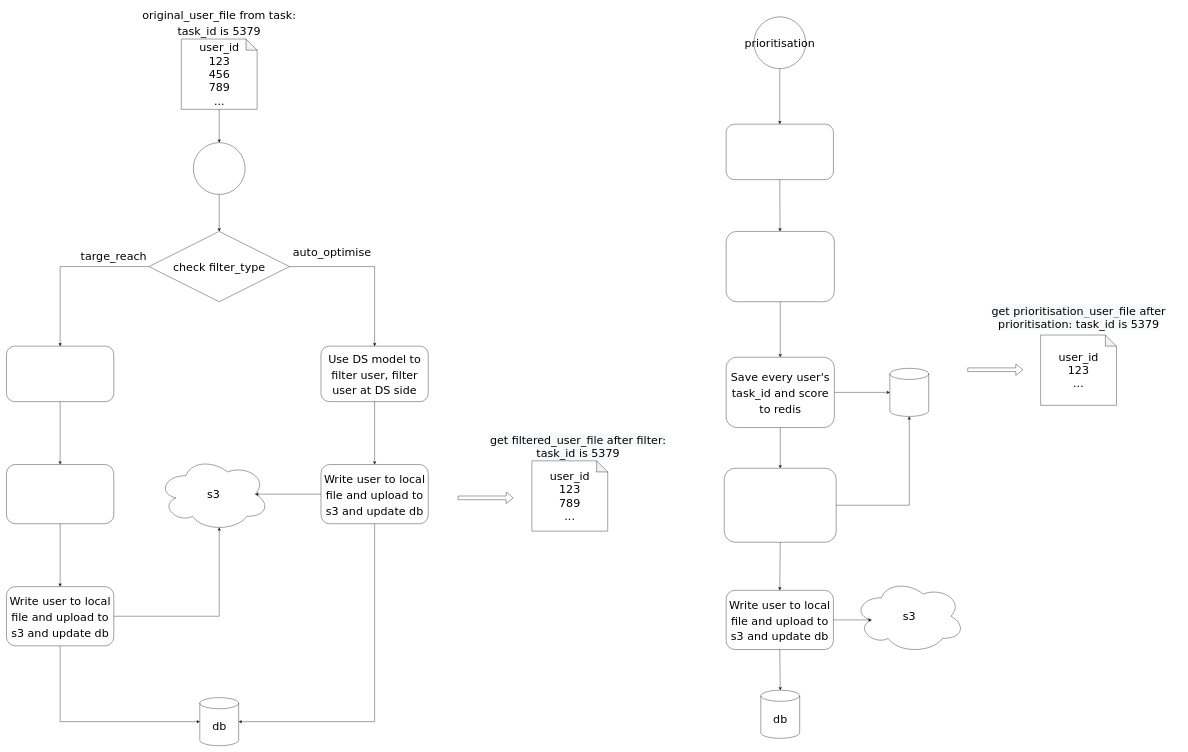
This 1188x752 diagram has some shape labels left out. Here are the shapes that lost their labels. From the top down, the box of each, then its label:
(193, 142, 245, 194): filter
(726, 124, 833, 180): Get tasks depend on region and schedule time
(726, 231, 834, 302): Get the score of each user in each task from the DS model
(6, 346, 114, 402): Get score from DS model
(889, 368, 929, 416): redis
(6, 464, 114, 524): Calculate thresh_hold and filter user at noti side
(724, 468, 836, 542): Get user's every task rank from redis and compare with user daily limit
